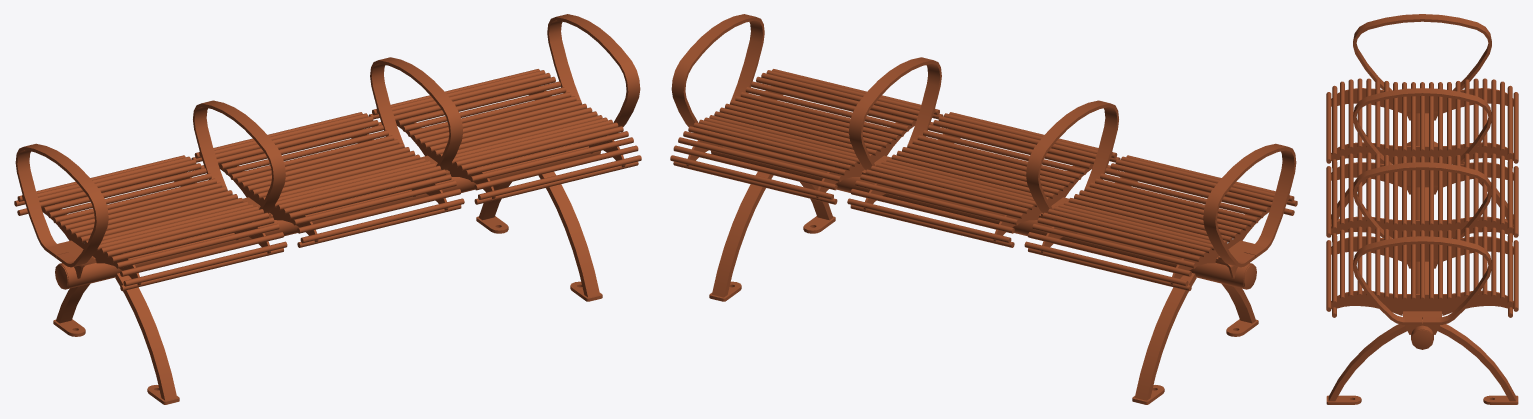
3 renders of one model, left to right at view 1: azimuth 30°, elevation 25°; view 2: azimuth 150°, elevation 25°; view 3: azimuth 270°, elevation 25°, orthographic. The views are drawn at different scales.
Parts seen in each view (by area): view 1: mesh84_mesh84-geometry, mesh105_mesh105-geometry, mesh8_mesh8-geometry, mesh9_mesh9-geometry, mesh10_mesh10-geometry, mesh12_mesh12-geometry, mesh11_mesh11-geometry, mesh21_mesh21-geometry, mesh22_mesh22-geometry, mesh23_mesh23-geometry, mesh13_mesh13-geometry, mesh20_mesh20-geometry (+17 smaller); view 2: mesh84_mesh84-geometry, mesh105_mesh105-geometry, mesh28_mesh28-geometry, mesh27_mesh27-geometry, mesh26_mesh26-geometry, mesh24_mesh24-geometry, mesh25_mesh25-geometry, mesh15_mesh15-geometry, mesh14_mesh14-geometry, mesh13_mesh13-geometry, mesh23_mesh23-geometry, mesh16_mesh16-geometry (+17 smaller); view 3: mesh84_mesh84-geometry, mesh1_mesh1-geometry, mesh2_mesh2-geometry, mesh9_mesh9-geometry, mesh27_mesh27-geometry, mesh8_mesh8-geometry, mesh28_mesh28-geometry, mesh11_mesh11-geometry, mesh25_mesh25-geometry, mesh15_mesh15-geometry, mesh21_mesh21-geometry, mesh14_mesh14-geometry (+25 smaller).
Part boxes in pixels (bbox=[...]): mesh84_mesh84-geometry: bbox=[15, 14, 640, 267]; mesh105_mesh105-geometry: bbox=[59, 143, 600, 289]; mesh8_mesh8-geometry: bbox=[123, 155, 641, 286]; mesh9_mesh9-geometry: bbox=[120, 145, 638, 276]; mesh10_mesh10-geometry: bbox=[115, 137, 633, 268]; mesh12_mesh12-geometry: bbox=[105, 126, 623, 257]; mesh11_mesh11-geometry: bbox=[110, 131, 628, 262]; mesh21_mesh21-geometry: bbox=[48, 87, 566, 218]; mesh22_mesh22-geometry: bbox=[42, 81, 560, 212]; mesh23_mesh23-geometry: bbox=[39, 76, 555, 207]; mesh13_mesh13-geometry: bbox=[100, 122, 618, 253]; mesh20_mesh20-geometry: bbox=[53, 92, 571, 223]; mesh84_mesh84-geometry: bbox=[671, 14, 1296, 267]; mesh105_mesh105-geometry: bbox=[711, 143, 1252, 289]; mesh28_mesh28-geometry: bbox=[670, 155, 1188, 286]; mesh27_mesh27-geometry: bbox=[673, 145, 1191, 276]; mesh26_mesh26-geometry: bbox=[678, 137, 1196, 268]; mesh24_mesh24-geometry: bbox=[688, 126, 1206, 257]; mesh25_mesh25-geometry: bbox=[683, 131, 1201, 262]; mesh15_mesh15-geometry: bbox=[745, 87, 1263, 218]; mesh14_mesh14-geometry: bbox=[751, 81, 1269, 212]; mesh13_mesh13-geometry: bbox=[756, 76, 1272, 207]; mesh23_mesh23-geometry: bbox=[693, 122, 1211, 253]; mesh16_mesh16-geometry: bbox=[740, 92, 1258, 223]; mesh84_mesh84-geometry: bbox=[1353, 14, 1491, 324]; mesh1_mesh1-geometry: bbox=[1331, 142, 1513, 315]; mesh2_mesh2-geometry: bbox=[1331, 88, 1513, 261]; mesh9_mesh9-geometry: bbox=[1332, 85, 1337, 305]; mesh27_mesh27-geometry: bbox=[1507, 85, 1512, 305]; mesh8_mesh8-geometry: bbox=[1326, 92, 1331, 311]; mesh28_mesh28-geometry: bbox=[1513, 92, 1518, 311]; mesh11_mesh11-geometry: bbox=[1348, 79, 1353, 299]; mesh25_mesh25-geometry: bbox=[1491, 79, 1496, 299]; mesh15_mesh15-geometry: bbox=[1384, 81, 1389, 300]; mesh21_mesh21-geometry: bbox=[1455, 81, 1460, 300]; mesh14_mesh14-geometry: bbox=[1375, 79, 1380, 298].
Size of the model in its own units: 0.8864 by 0.3376 by 0.3168.
